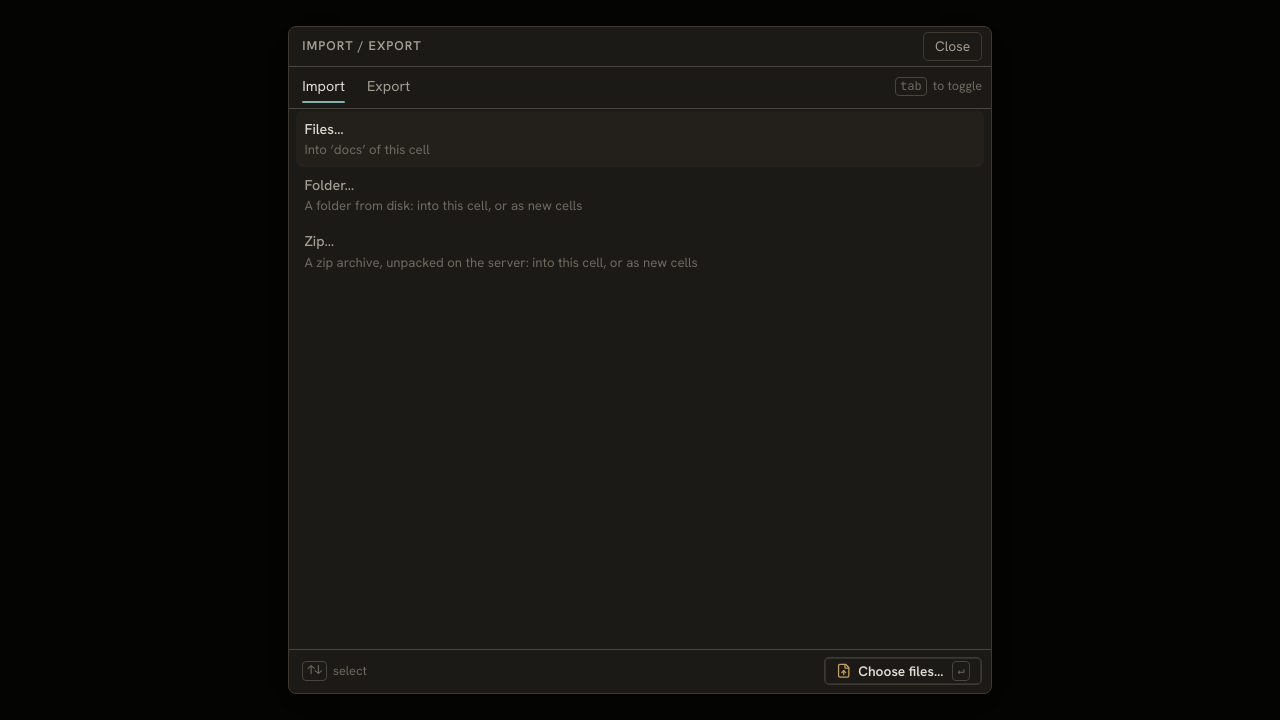
Test: Transfer panel: import (TR-11, TR-07) › shows progress while uploading, and Cancel stops the import
Press Enter in the dialog "Import / export", box [288,26,992,694]
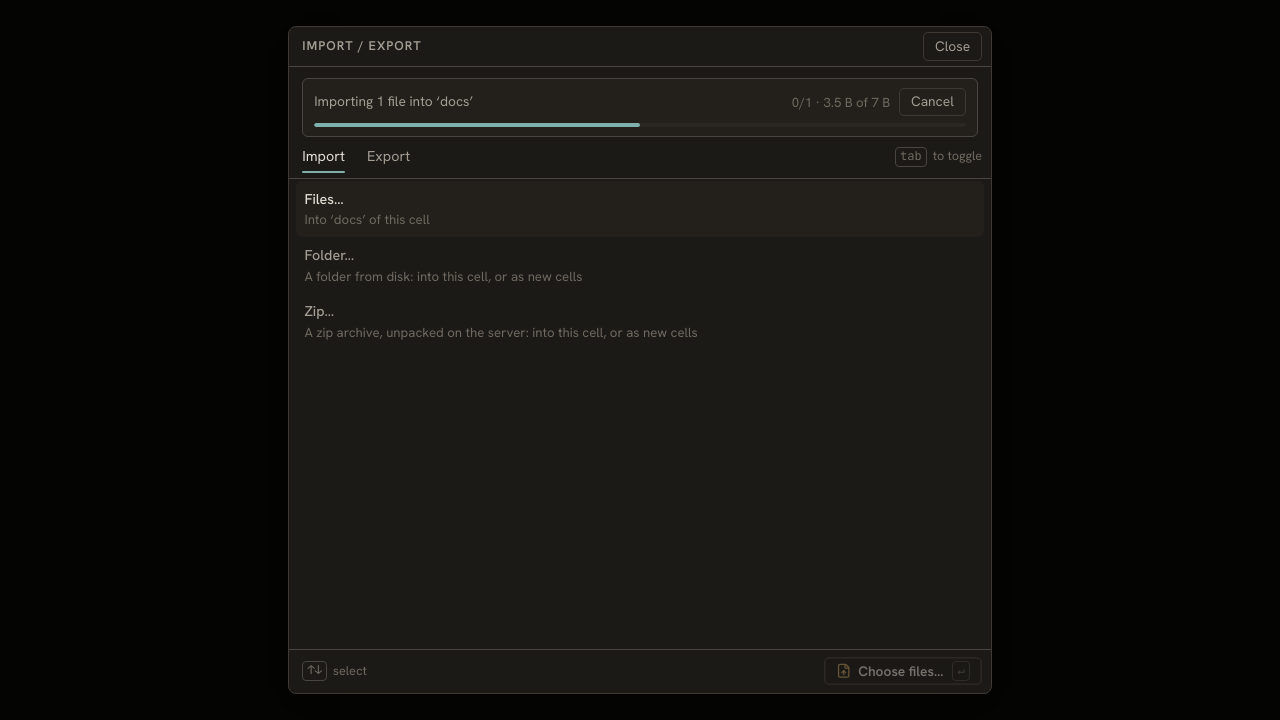
Click the button "Cancel" at (932,102), box [899,88,966,116]
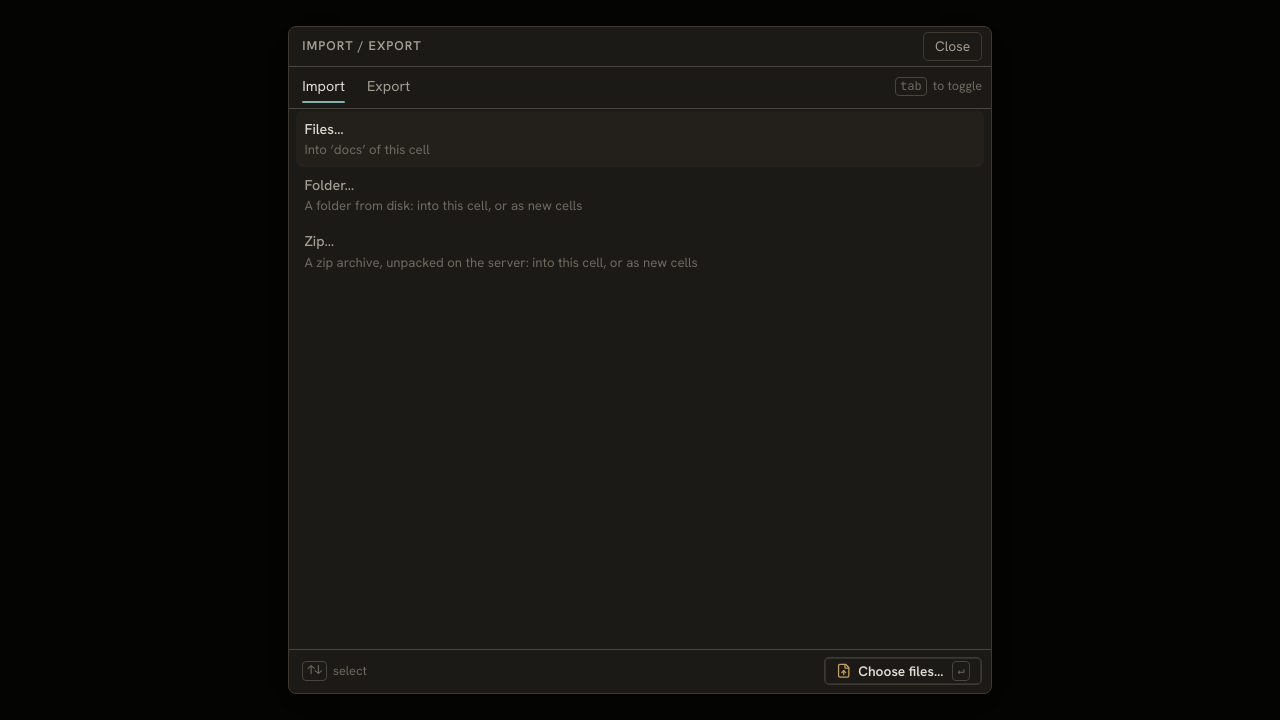
Expected: the progress indicator is gone
